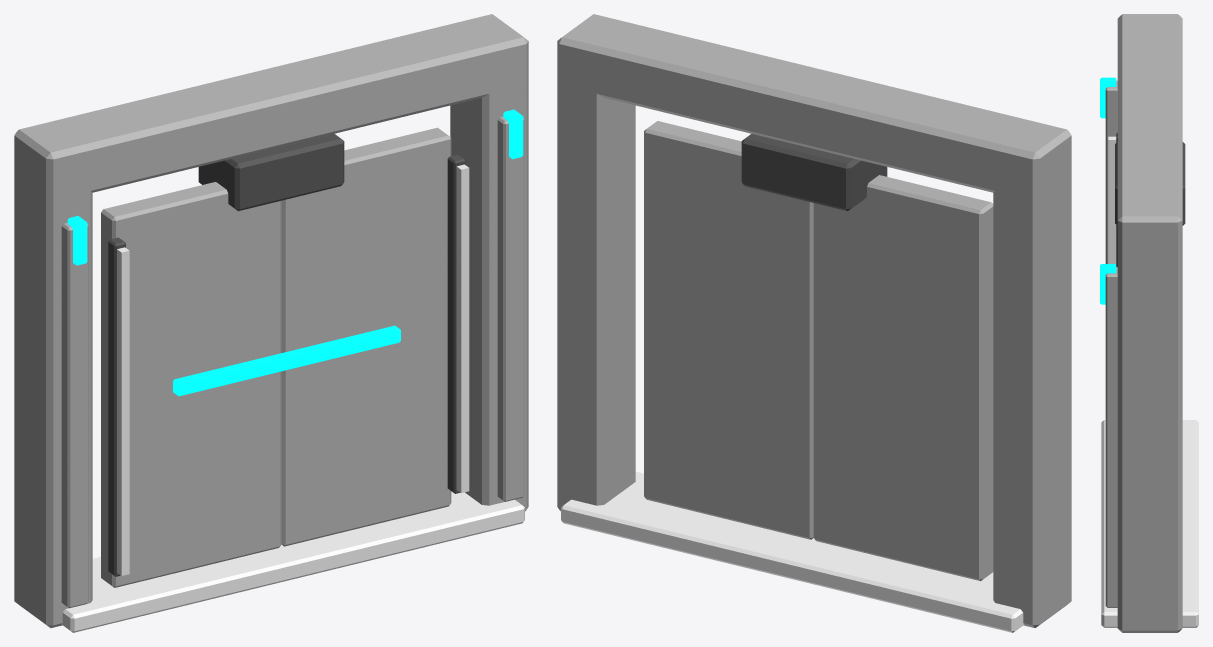
Rendered from pressure_door_1x1.glb.
The picture shows the model from 3 angles, left to right: view 1: azimuth 30°, elevation 25°; view 2: azimuth 150°, elevation 25°; view 3: azimuth 270°, elevation 25°; orthographic projection. The views are drawn at different scales.
Visible parts, largest first — view 1: FocusedNine_pressure_door_1x1_split_leaf_right, FocusedNine_pressure_door_1x1_split_leaf_left, FocusedNine_pressure_door_1x1_outer_portal_lintel, FocusedNine_pressure_door_1x1_outer_portal_left, FocusedNine_pressure_door_1x1_outer_portal_right, FocusedNine_pressure_door_1x1_warning_threshold, FocusedNine_pressure_door_1x1_shared_frame_left, FocusedNine_pressure_door_1x1_shared_frame_right, FocusedNine_pressure_door_1x1_motor_housing, FocusedNine_pressure_door_1x1_seal_right, FocusedNine_pressure_door_1x1_intact_lock_bar, FocusedNine_pressure_door_1x1_seal_left (+4 smaller); view 2: FocusedNine_pressure_door_1x1_split_leaf_left, FocusedNine_pressure_door_1x1_split_leaf_right, FocusedNine_pressure_door_1x1_outer_portal_left, FocusedNine_pressure_door_1x1_outer_portal_right, FocusedNine_pressure_door_1x1_outer_portal_lintel, FocusedNine_pressure_door_1x1_warning_threshold, FocusedNine_pressure_door_1x1_motor_housing; view 3: FocusedNine_pressure_door_1x1_outer_portal_right, FocusedNine_pressure_door_1x1_outer_portal_lintel, FocusedNine_pressure_door_1x1_warning_threshold, FocusedNine_pressure_door_1x1_shared_frame_right, FocusedNine_pressure_door_1x1_shared_frame_left, FocusedNine_pressure_door_1x1_outer_portal_left, FocusedNine_pressure_door_1x1_seal_left, FocusedNine_pressure_door_1x1_motor_housing, FocusedNine_pressure_door_1x1_cyan_indicator_left, FocusedNine_pressure_door_1x1_cyan_indicator_right.
Part boxes in pixels (x1=…): FocusedNine_pressure_door_1x1_split_leaf_right: x1=281, y1=127, x2=451, y2=546; FocusedNine_pressure_door_1x1_split_leaf_left: x1=101, y1=182, x2=281, y2=587; FocusedNine_pressure_door_1x1_outer_portal_lintel: x1=27, y1=23, x2=528, y2=199; FocusedNine_pressure_door_1x1_outer_portal_left: x1=14, y1=120, x2=92, y2=627; FocusedNine_pressure_door_1x1_outer_portal_right: x1=450, y1=14, x2=528, y2=511; FocusedNine_pressure_door_1x1_warning_threshold: x1=61, y1=491, x2=524, y2=632; FocusedNine_pressure_door_1x1_shared_frame_left: x1=61, y1=223, x2=88, y2=608; FocusedNine_pressure_door_1x1_shared_frame_right: x1=497, y1=116, x2=524, y2=501; FocusedNine_pressure_door_1x1_motor_housing: x1=198, y1=134, x2=344, y2=211; FocusedNine_pressure_door_1x1_seal_right: x1=456, y1=164, x2=469, y2=493; FocusedNine_pressure_door_1x1_intact_lock_bar: x1=173, y1=325, x2=400, y2=396; FocusedNine_pressure_door_1x1_seal_left: x1=117, y1=247, x2=129, y2=575; FocusedNine_pressure_door_1x1_split_leaf_left: x1=813, y1=175, x2=993, y2=581; FocusedNine_pressure_door_1x1_split_leaf_right: x1=644, y1=121, x2=813, y2=539; FocusedNine_pressure_door_1x1_outer_portal_left: x1=993, y1=120, x2=1071, y2=627; FocusedNine_pressure_door_1x1_outer_portal_right: x1=557, y1=14, x2=635, y2=511; FocusedNine_pressure_door_1x1_outer_portal_lintel: x1=559, y1=23, x2=1071, y2=195; FocusedNine_pressure_door_1x1_warning_threshold: x1=561, y1=471, x2=1024, y2=632; FocusedNine_pressure_door_1x1_motor_housing: x1=741, y1=134, x2=887, y2=211; FocusedNine_pressure_door_1x1_outer_portal_right: x1=1117, y1=200, x2=1182, y2=632; FocusedNine_pressure_door_1x1_outer_portal_lintel: x1=1117, y1=30, x2=1182, y2=257; FocusedNine_pressure_door_1x1_warning_threshold: x1=1101, y1=420, x2=1198, y2=627; FocusedNine_pressure_door_1x1_shared_frame_right: x1=1105, y1=267, x2=1117, y2=607; FocusedNine_pressure_door_1x1_shared_frame_left: x1=1105, y1=80, x2=1117, y2=263; FocusedNine_pressure_door_1x1_outer_portal_left: x1=1117, y1=14, x2=1182, y2=33; FocusedNine_pressure_door_1x1_seal_left: x1=1108, y1=136, x2=1116, y2=264; FocusedNine_pressure_door_1x1_motor_housing: x1=1115, y1=142, x2=1185, y2=225; FocusedNine_pressure_door_1x1_cyan_indicator_left: x1=1100, y1=77, x2=1116, y2=118; FocusedNine_pressure_door_1x1_cyan_indicator_right: x1=1100, y1=264, x2=1116, y2=304.
Size of the model in its own units: 3.61 by 3.4 by 0.73.
